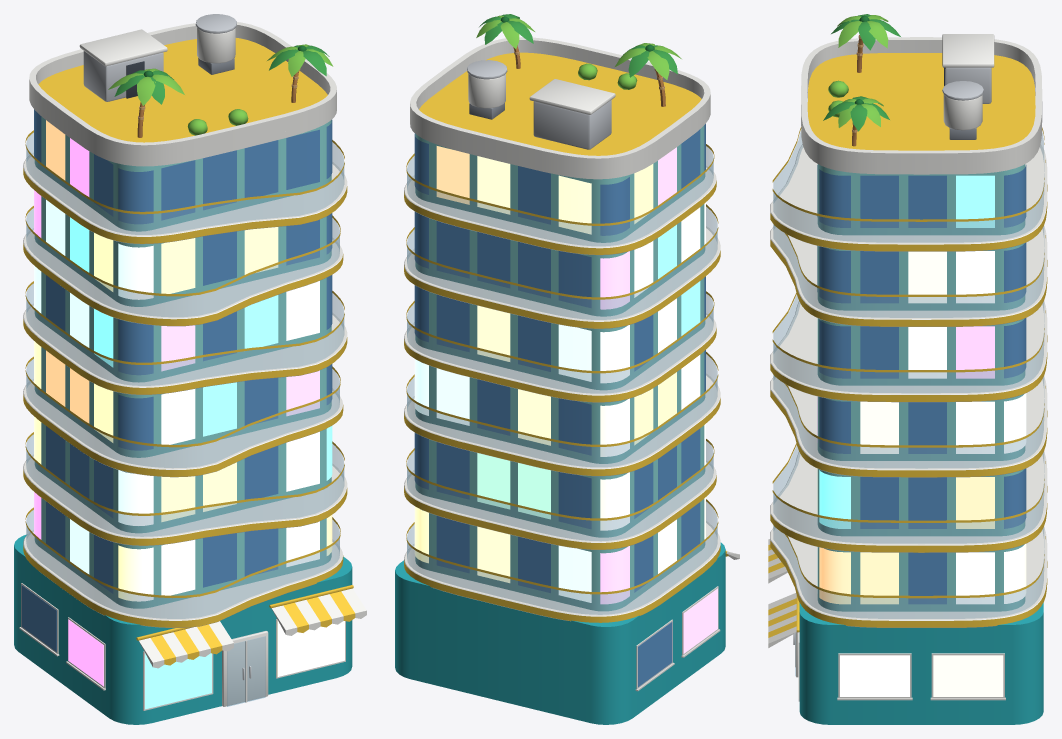
File: predio_varandas_turquesa.glb
The picture shows the model from 3 angles, left to right: view 1: azimuth 30°, elevation 25°; view 2: azimuth 150°, elevation 25°; view 3: azimuth 270°, elevation 25°; orthographic projection. The views are drawn at different scales.
Parts seen in each view (by area): view 1: predio_varandas_turquesa; view 2: predio_varandas_turquesa; view 3: predio_varandas_turquesa.
Part boxes in pixels (x1=…): predio_varandas_turquesa: x1=14, y1=14, x2=366, y2=724; predio_varandas_turquesa: x1=395, y1=14, x2=739, y2=724; predio_varandas_turquesa: x1=768, y1=14, x2=1047, y2=724.
Bounding box in the file's own units: 11 × 26.35 × 10.75.
9 materials, 1 textured.
